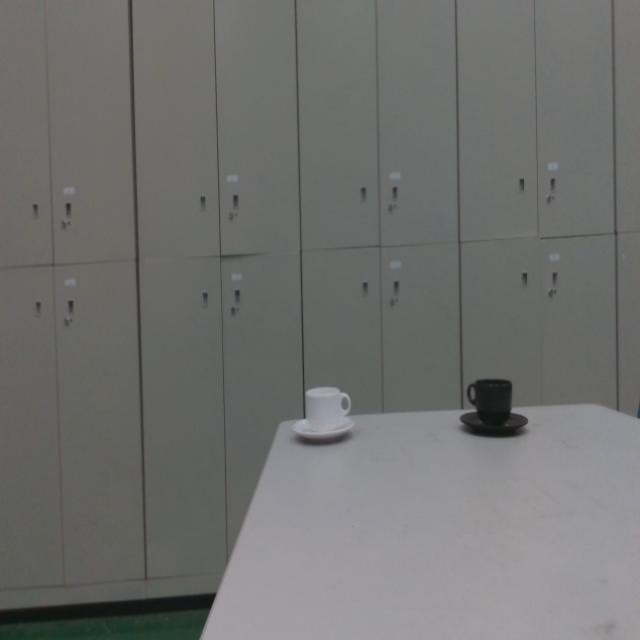black: (458, 375, 530, 437)
white: (290, 386, 358, 444)
